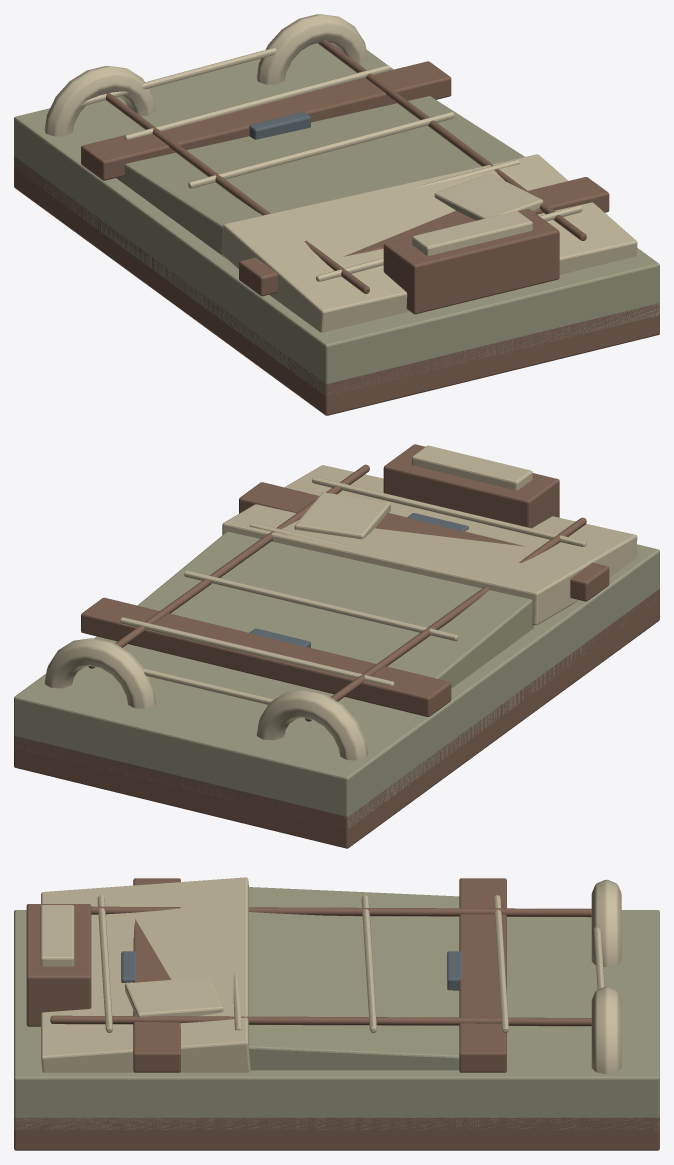
File: 13_Survivor_Sleeping_Bedroll.fbx
3 views of the same model, one above another, from view 1: azimuth 30°, elevation 25°; view 2: azimuth 150°, elevation 25°; view 3: azimuth 270°, elevation 25° (orthographic). The views are drawn at different scales.
Parts seen in each view (by area): view 1: 13_Survivor_Sleeping_Bedroll; view 2: 13_Survivor_Sleeping_Bedroll; view 3: 13_Survivor_Sleeping_Bedroll.
Part boxes in pixels (bbox=[...]): 13_Survivor_Sleeping_Bedroll: bbox=[14, 14, 659, 415]; 13_Survivor_Sleeping_Bedroll: bbox=[14, 444, 659, 848]; 13_Survivor_Sleeping_Bedroll: bbox=[14, 877, 659, 1150].
Size of the model in its own units: 1.48 by 0.535 by 2.3.
